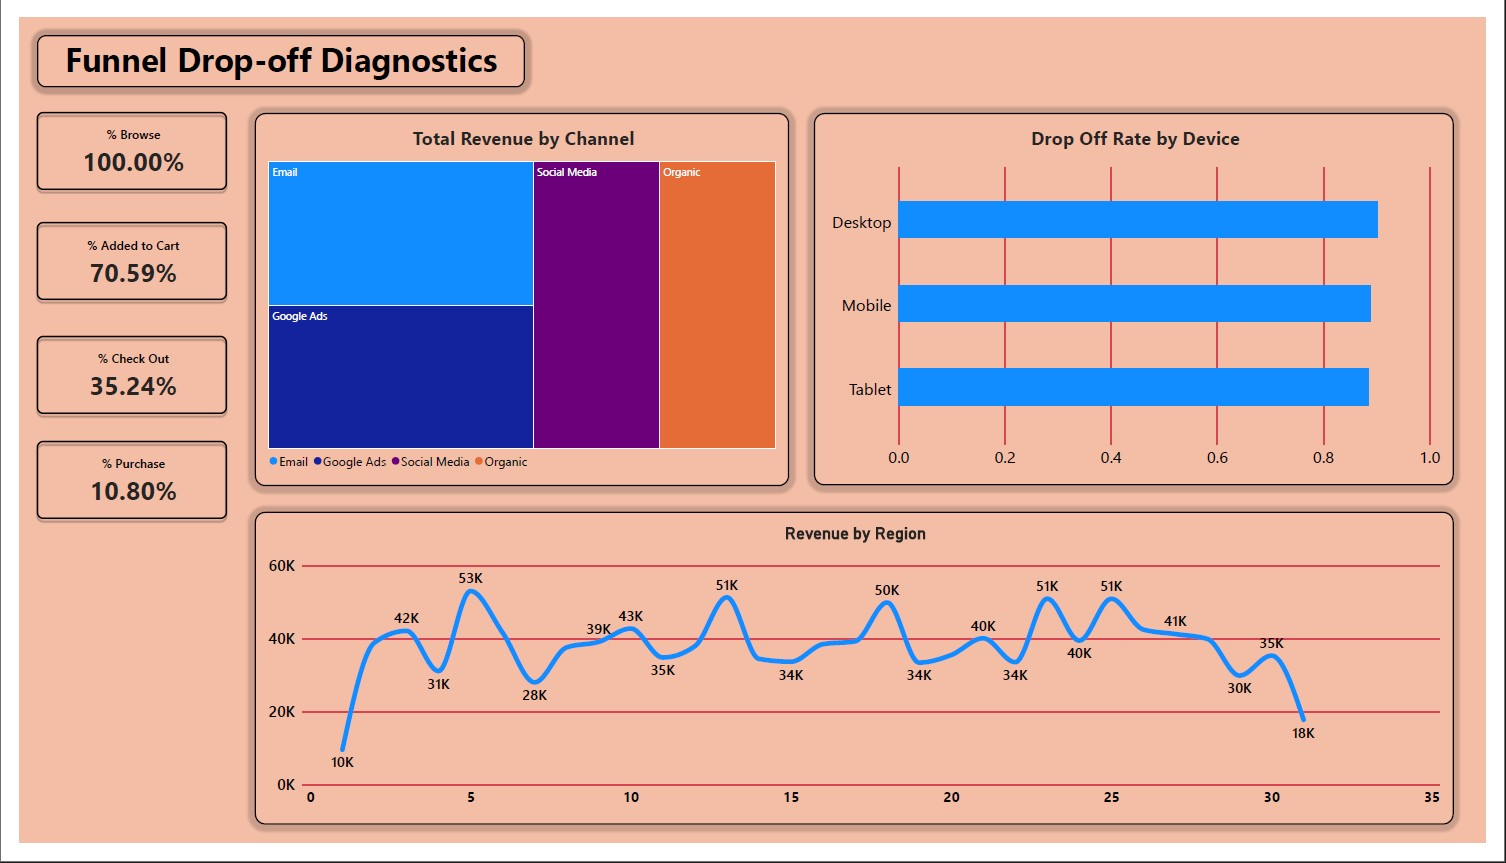

What the dashboard file says about the page in this screenshot:
{"tool":"powerbi","page":{"name":"Page 2","canvas":[1920,1080],"ordinal":1},"visuals":[{"type":"textbox","box":[23,23,639.3,68.9],"z":0},{"type":"cardVisual","title":"Who Added Card","fields":{"Data":["funnel_analysis_data.P_bro"]},"box":[16.7,118.3,261.1,113.2],"z":1000},{"type":"cardVisual","title":"Total User","fields":{"Data":["funnel_analysis_data.P_Atc"]},"box":[16.7,263.3,261.1,113.2],"z":2000},{"type":"cardVisual","title":"Total User","fields":{"Data":["funnel_analysis_data.P_che"]},"box":[16.7,411.7,261.1,113.2],"z":3000},{"type":"treemap","fields":{"Group":["funnel_analysis_data.Channel"],"Values":["funnel_analysis_data.Total Revenue"]},"box":[308.3,125,699.9,488.9],"z":4000},{"type":"lineChart","title":"Revenue by Region","fields":{"Y":["funnel_analysis_data.Total Revenue"],"Category":["funnel_analysis_data.Date.Variation.Date Hierarchy.Day"]},"box":[308.3,646.7,1570,410],"z":5000},{"type":"cardVisual","title":"Total User","fields":{"Data":["funnel_analysis_data.P_pur"]},"box":[16.7,548.9,261.1,113.2],"z":6000},{"type":"clusteredBarChart","title":"Drop Off Rate by Device","fields":{"Category":["funnel_analysis_data.Device"],"Y":["funnel_analysis_data.Drop-off Rate"]},"box":[1040,125,838.3,488.3],"z":7000}]}

Visuals, with their boxes in screenshot pixels (x1, y1, x2, y2), scaled from the page's 1920x1080 canvas onto the 1506x863 screenshot:
textbox: rect(18, 18, 519, 73)
"Who Added Card" cardVisual: rect(13, 95, 218, 185)
"Total User" cardVisual: rect(13, 210, 218, 301)
"Total User" cardVisual: rect(13, 329, 218, 419)
treemap - funnel_analysis_data.Channel x funnel_analysis_data.Total Revenue: rect(242, 100, 791, 491)
"Revenue by Region" lineChart: rect(242, 517, 1473, 844)
"Total User" cardVisual: rect(13, 439, 218, 529)
"Drop Off Rate by Device" clusteredBarChart: rect(816, 100, 1473, 490)
